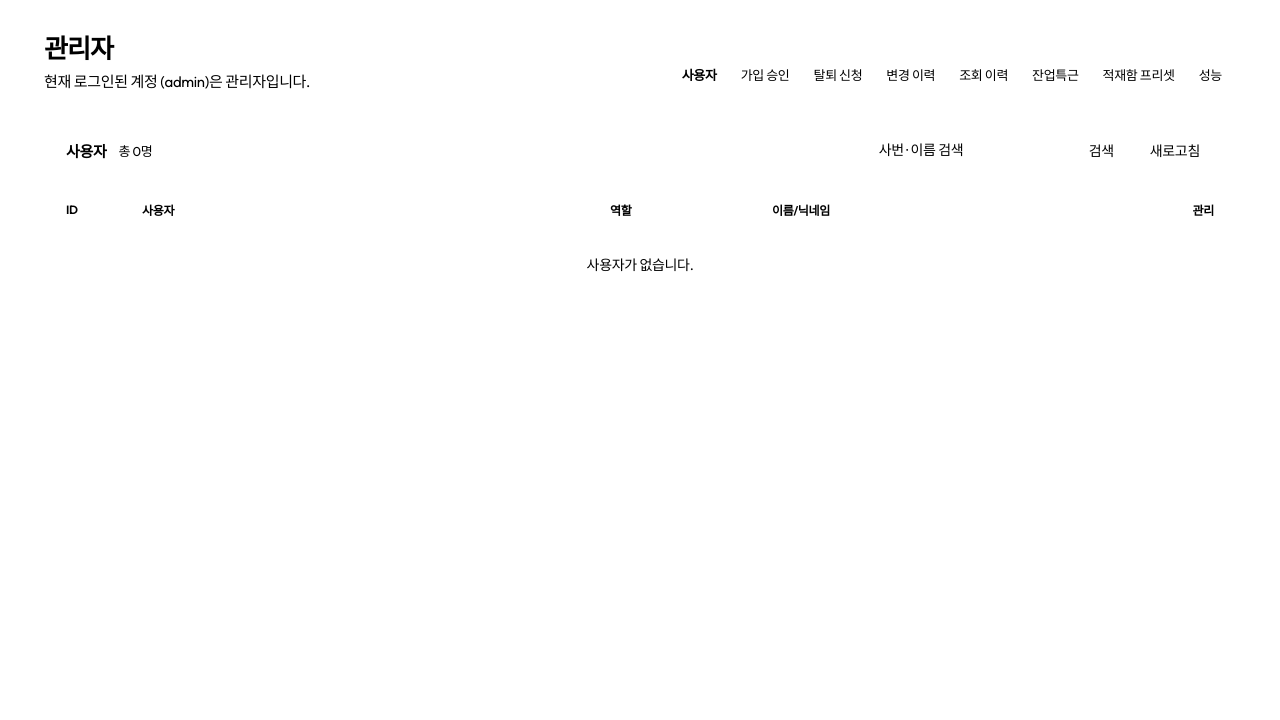
Scenario: AdminPage — 탭 전환 시 로딩 › 다른 관리자가 먼저 승인한 기록은 갱신하고, 알림은 탭 이동 시 닫는다
Step 1. Click the button "잔업특근" → [1055, 74], box [1021, 60, 1090, 88]
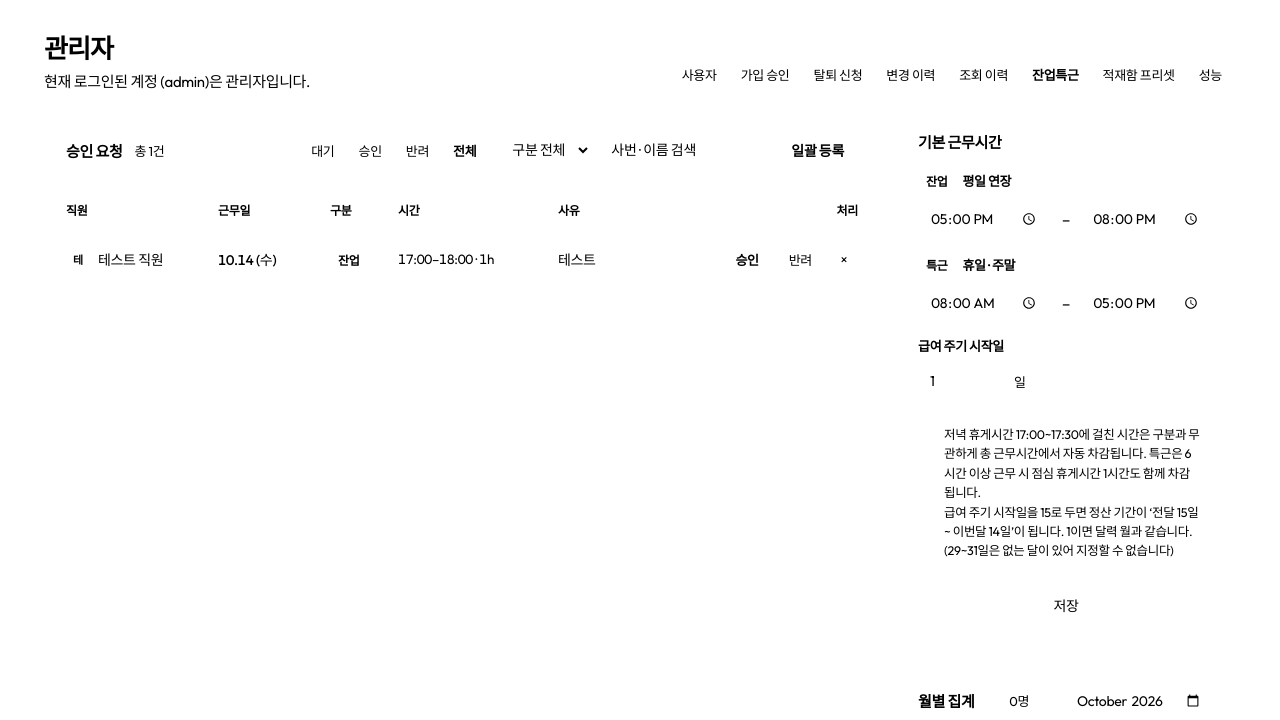
Step 2. Click the button "승인" in the row of "17:00–18:00 · 1h" → [747, 259], box [723, 243, 771, 275]
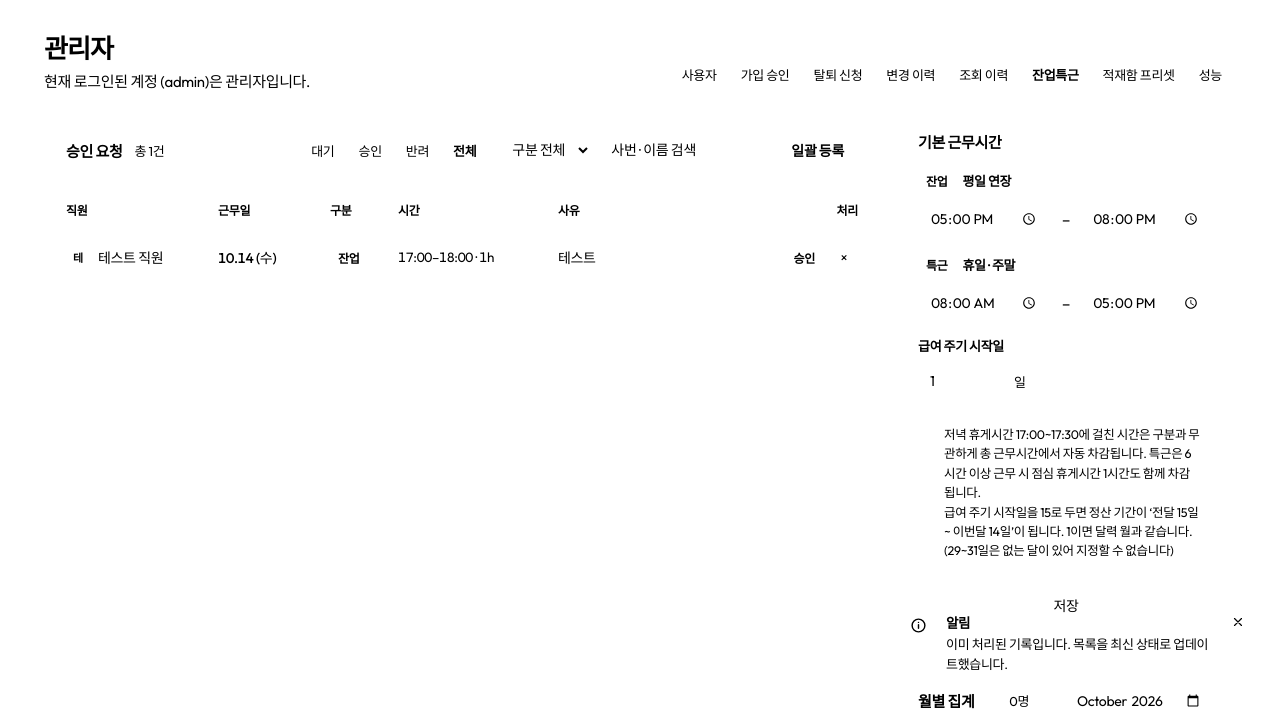
Check: the text "이미 처리된 기록입니다. 목록을 최신 상태로 업데이트했습니다." is shown, box [946, 635, 1212, 674]
Step 3. Click the button "사용자" → [699, 74], box [671, 60, 728, 88]
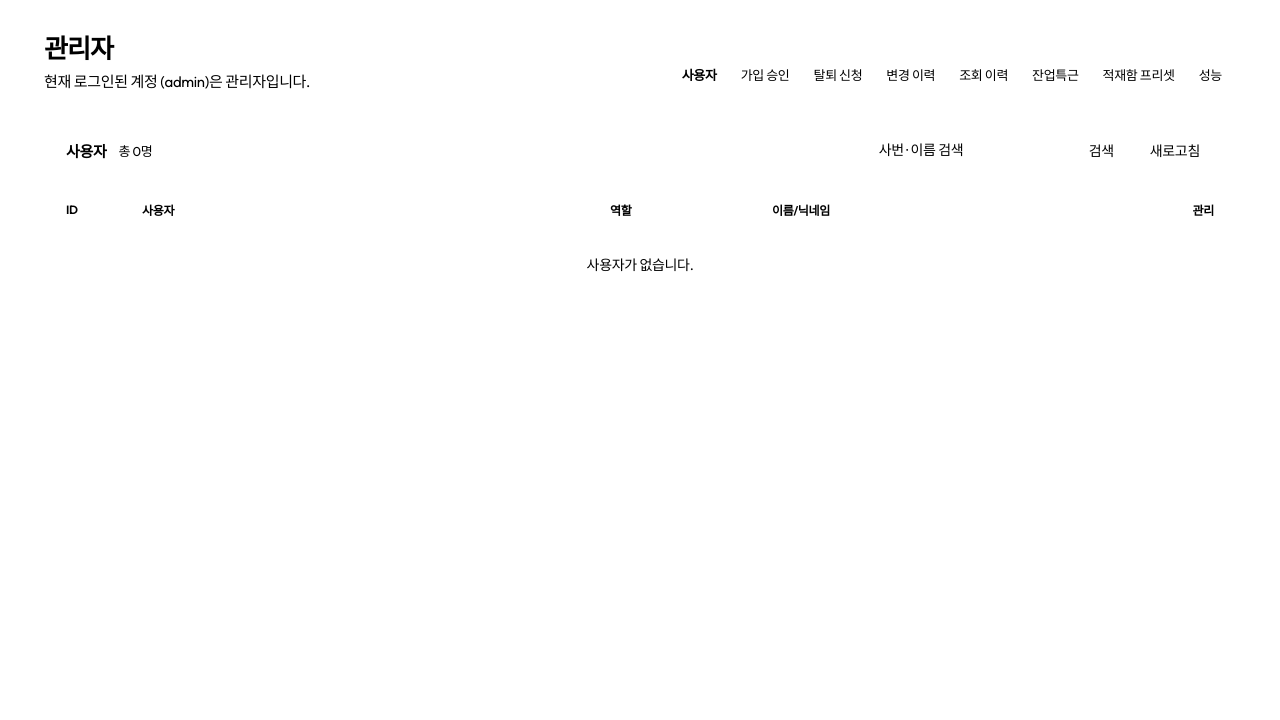
Check: the text "이미 처리된 기록입니다. 목록을 최신 상태로 업데이트했습니다." is gone
